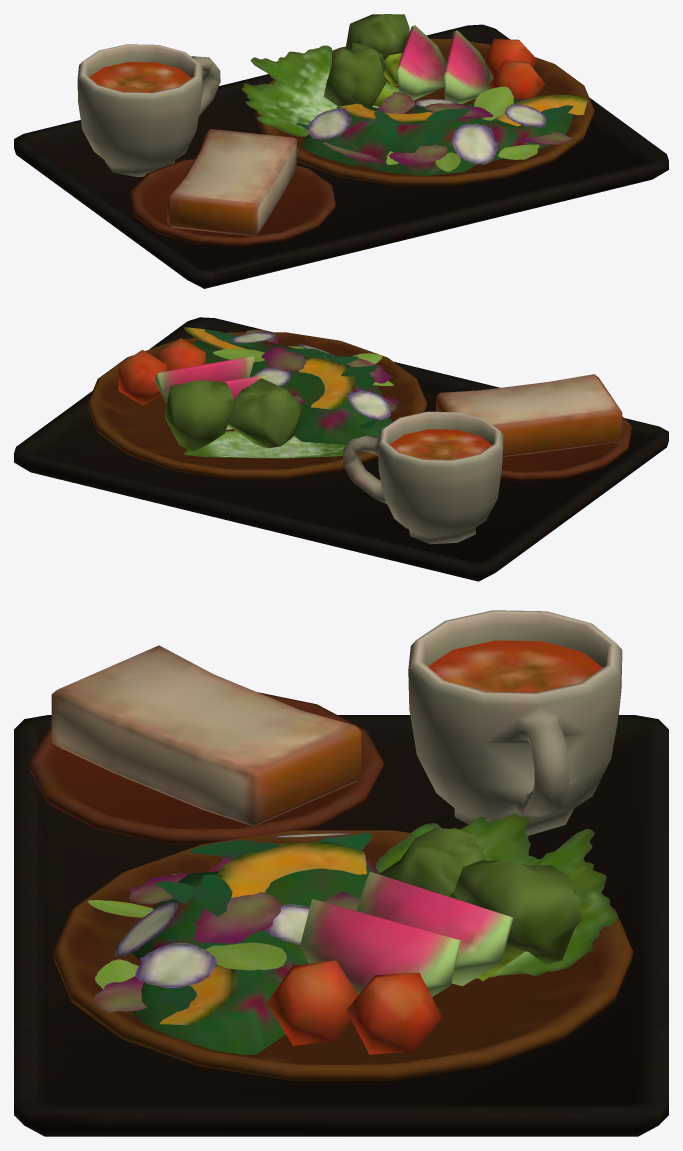
3 views of the same model, one above another, from view 1: azimuth 30°, elevation 25°; view 2: azimuth 150°, elevation 25°; view 3: azimuth 270°, elevation 25° (orthographic). The views are drawn at different scales.
Size of the model in its own units: 8.93 by 1.79 by 6.19.
1 material, 1 textured.
